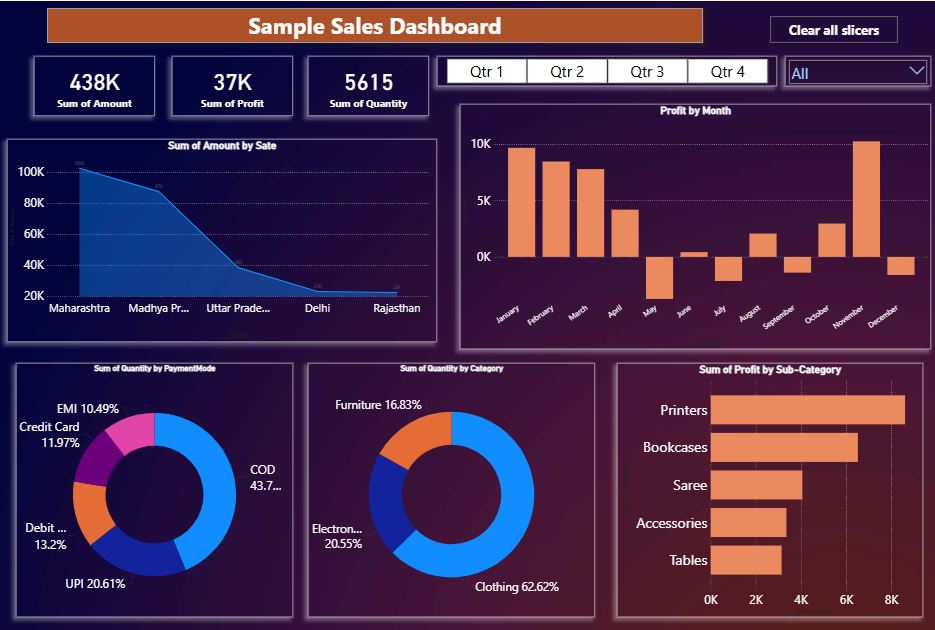

What the dashboard file says about the page in this screenshot:
{"tool":"powerbi","page":{"name":"Page 1","canvas":[2502,1700],"ordinal":0},"visuals":[{"type":"textbox","box":[130.2,18.6,1742.5,93],"z":0},{"type":"columnChart","title":"Profit by Month","fields":{"Category":["Orders (1).Order Date.Variation.Date Hierarchy.Month"],"Y":["Sum(Details (1).Profit)"]},"box":[1227.2,273.6,1251.1,650.8],"z":1000},{"type":"barChart","fields":{"Category":["Details (1).Sub-Category"],"Y":["Sum(Details (1).Profit)"]},"box":[1644.2,961.6,812.8,674.7],"z":2000},{"type":"donutChart","fields":{"Category":["Details (1).Category"],"Y":["Sum(Details (1).Quantity)"]},"box":[823.4,961.6,762.3,674.7],"z":3000},{"type":"donutChart","fields":{"Y":["Sum(Details (1).Quantity)"],"Category":["Details (1).PaymentMode"]},"box":[47.8,961.6,735.8,674.7],"z":4000},{"type":"card","fields":{"Values":["Sum(Details (1).Amount)"]},"box":[95.6,146.1,321.4,159.4],"z":5000},{"type":"card","fields":{"Values":["Sum(Details (1).Profit)"]},"box":[462.2,146.1,321.4,159.4],"z":6000},{"type":"areaChart","fields":{"Category":["Orders (1).Sate"],"Y":["Sum(Details (1).Amount)"]},"box":[23.9,366.6,1142.2,539.2],"z":7000},{"type":"card","fields":{"Values":["Sum(Details (1).Quantity)"]},"box":[823.4,146.1,321.4,159.4],"z":8000},{"type":"slicer","fields":{"Values":["Orders (1).Order Date.Variation.Date Hierarchy.Quarter"]},"box":[1166.1,146.1,903.1,79.7],"z":9000},{"type":"slicer","fields":{"Values":["Orders (1).Sate"]},"box":[2090.5,146.1,387.8,79.7],"z":10000},{"type":"actionButton","box":[2050.6,39.8,340,71.7],"z":11000}]}

Visuals, with their boxes in screenshot pixels (x1, y1, x2, y2), scaled from the page's 2502x1700 canvas onto the 935x630 screenshot:
textbox: bbox=(49, 7, 700, 41)
"Profit by Month" columnChart: bbox=(459, 101, 926, 343)
barChart - Details (1).Sub-Category x Sum(Details (1).Profit): bbox=(614, 356, 918, 606)
donutChart - Details (1).Category x Sum(Details (1).Quantity): bbox=(308, 356, 593, 606)
donutChart - Sum(Details (1).Quantity) x Details (1).PaymentMode: bbox=(18, 356, 293, 606)
card - Sum(Details (1).Amount): bbox=(36, 54, 156, 113)
card - Sum(Details (1).Profit): bbox=(173, 54, 293, 113)
areaChart - Orders (1).Sate x Sum(Details (1).Amount): bbox=(9, 136, 436, 336)
card - Sum(Details (1).Quantity): bbox=(308, 54, 428, 113)
slicer - Orders (1).Order Date.Variation.Date Hierarchy.Quarter: bbox=(436, 54, 773, 84)
slicer - Orders (1).Sate: bbox=(781, 54, 926, 84)
actionButton: bbox=(766, 15, 893, 41)
